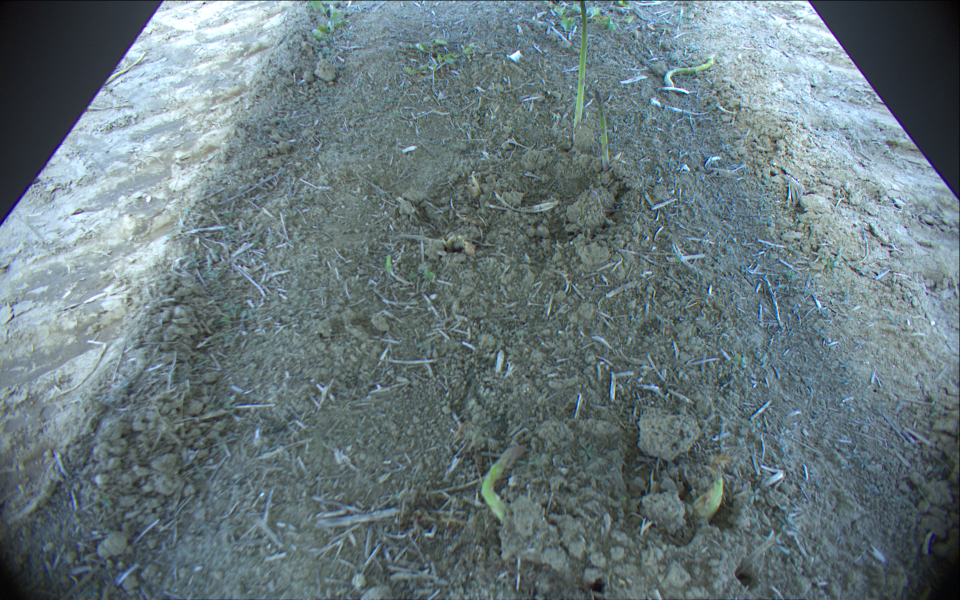aspa: (479, 442, 527, 525), (570, 1, 589, 145), (690, 468, 723, 526), (664, 55, 720, 89), (594, 89, 612, 168)
